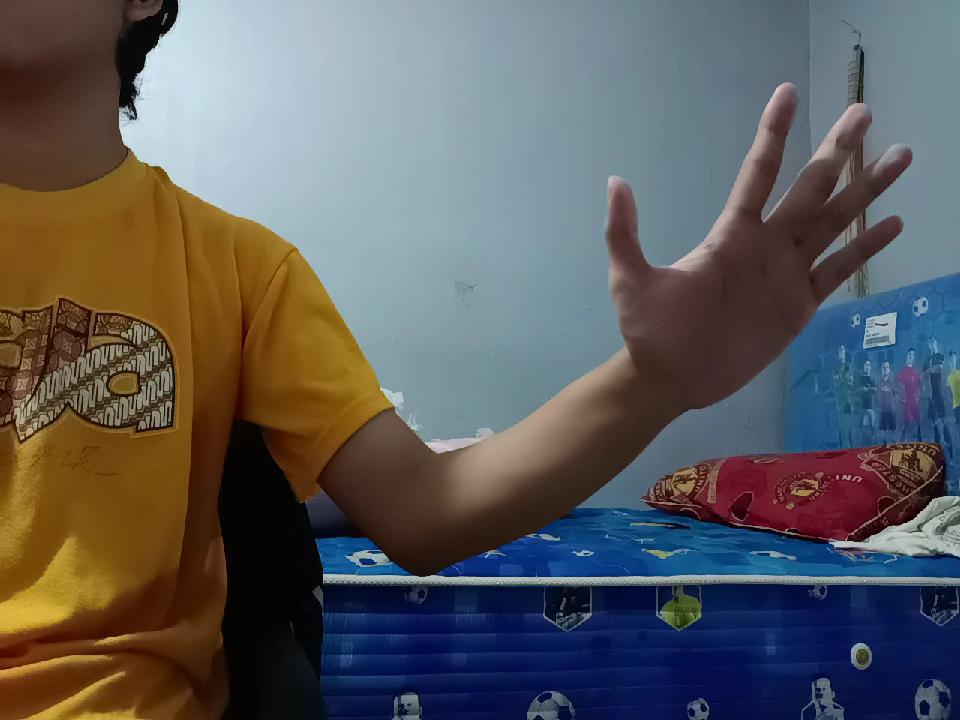paper: (604, 84, 904, 400)
